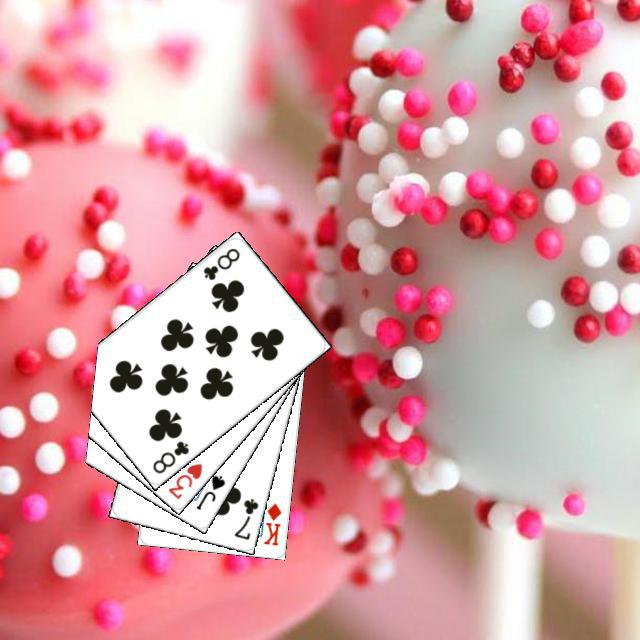3h: (163, 458, 204, 501)
7c: (229, 493, 260, 542)
8c: (147, 436, 191, 475), (198, 243, 242, 282)
Js: (191, 470, 227, 512)
Kd: (258, 498, 283, 547)
